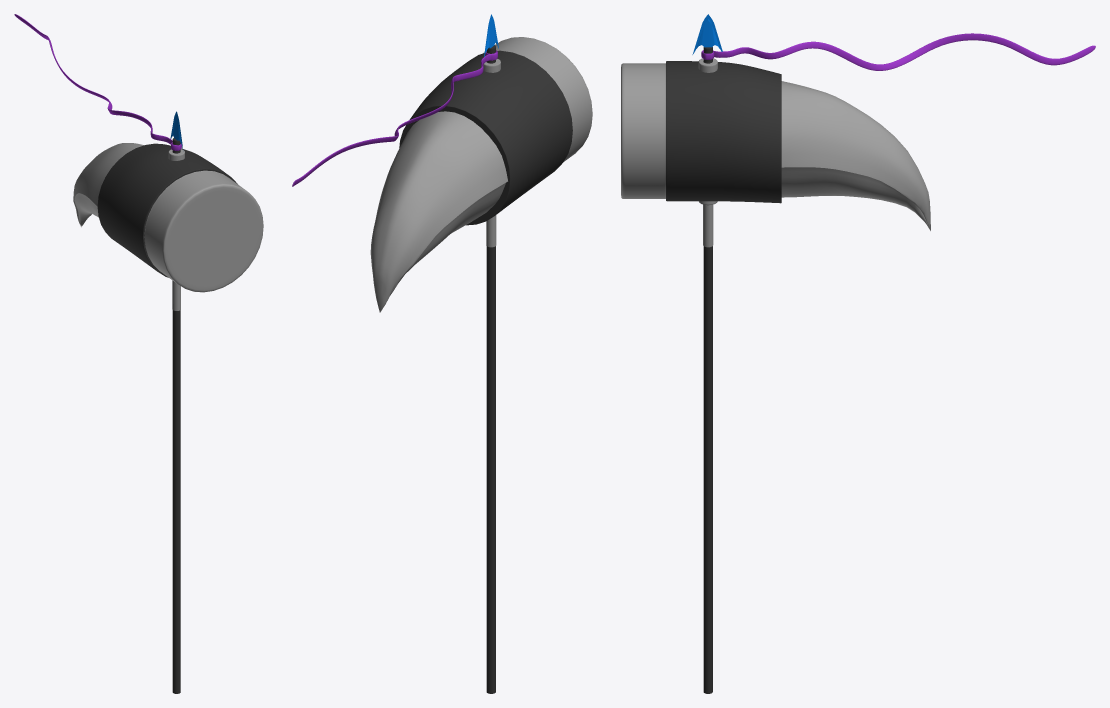
3 renders of one model, left to right at view 1: azimuth 30°, elevation 25°; view 2: azimuth 150°, elevation 25°; view 3: azimuth 270°, elevation 25°, orthographic. The views are drawn at different scales.
Visible parts, largest first — view 1: Hammer_of_Justice_merged (×3); view 2: Hammer_of_Justice_merged (×3); view 3: Hammer_of_Justice_merged (×3).
Boxes of the visible parts, x1,y1,x2,y2 form: Hammer_of_Justice_merged (×3): (14, 14, 263, 693); Hammer_of_Justice_merged (×3): (292, 37, 592, 693); Hammer_of_Justice_merged (×3): (621, 33, 1095, 693).
Bounding box in the file's own units: 4.58 × 24.49 × 15.54.
